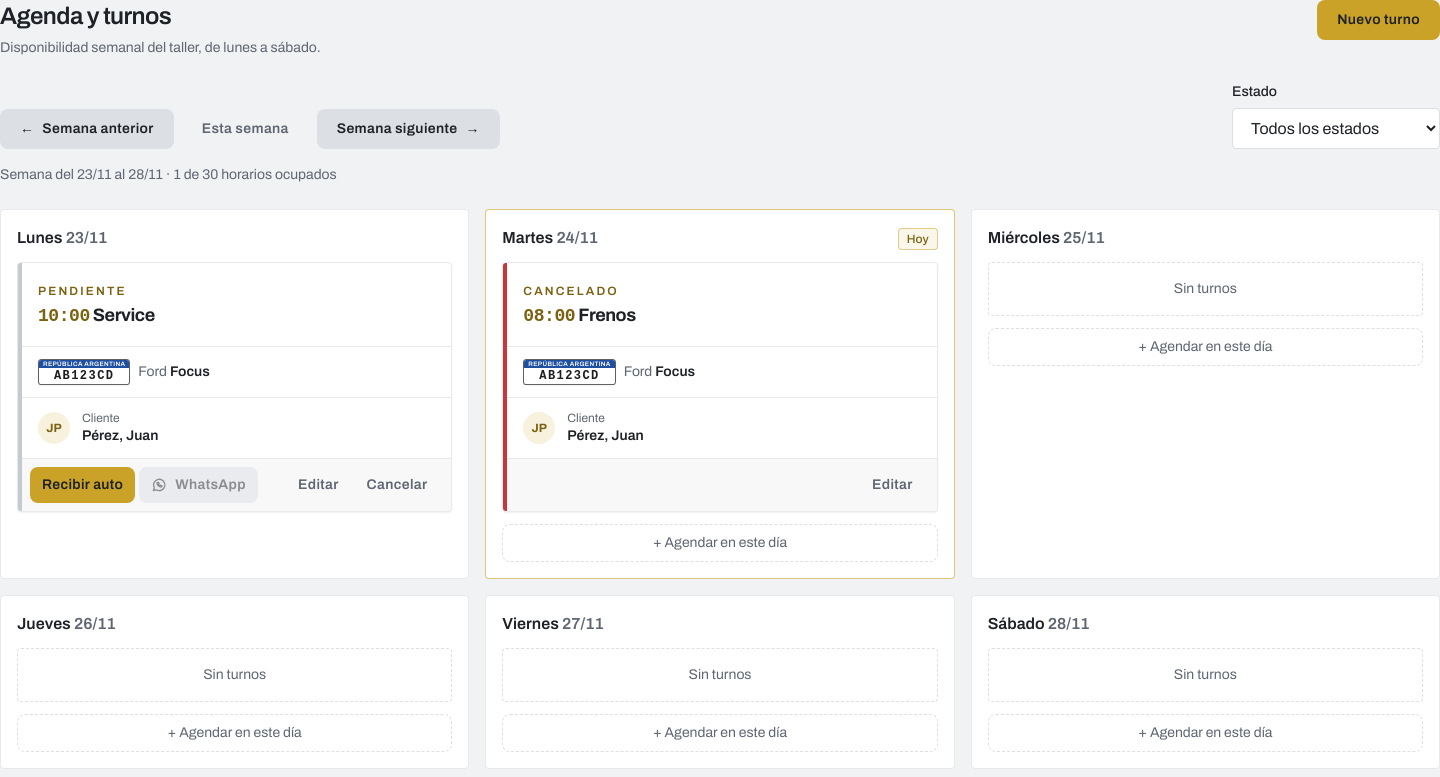
Scenario: Turnos › con turnos en la semana › cancelar pide confirmación, cambia el estado, avisa y recarga
The width and height of the screenshot is (1440, 777).
Expected: the text "Service" is shown, [93,305,155,325]
# Solo el turno pendiente tiene "Cancelar".
Click the button "Cancelar": (397, 485) [355,467,439,503]
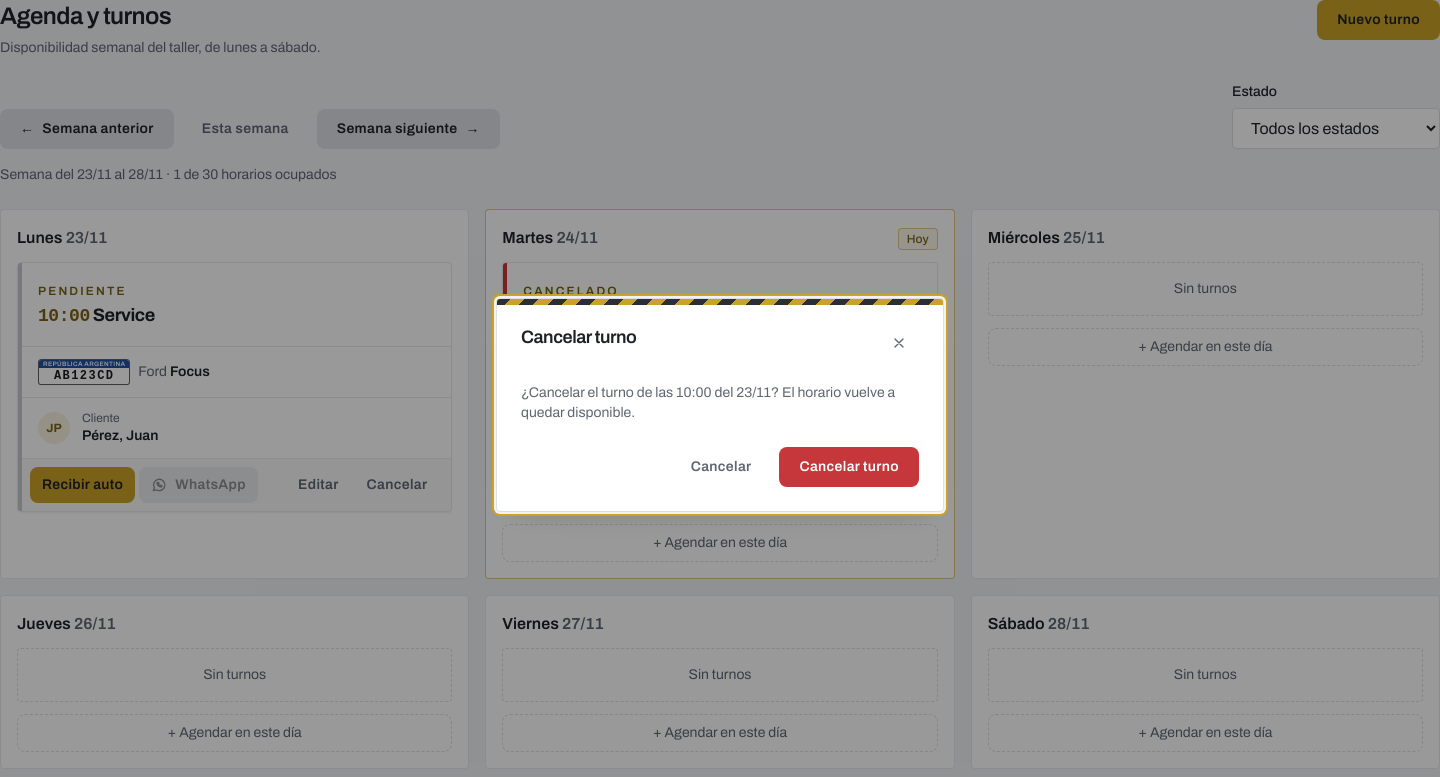
Expected: the text "Cancelar el turno de las 10:00" is shown, [521,385,895,420]
Click the button "Cancelar turno": (849, 467) [780,447,919,487]
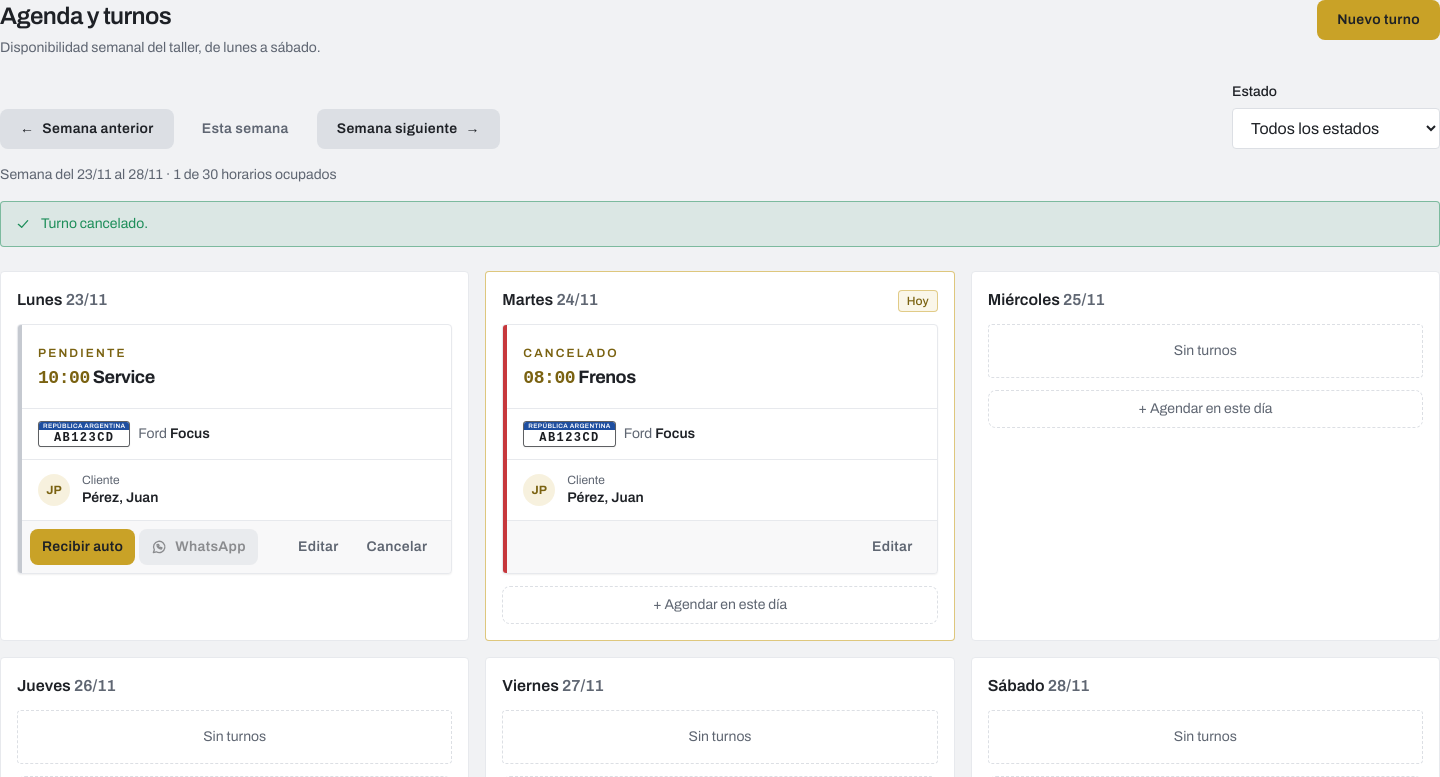
Expected: the text "Turno cancelado." is shown, [41,216,148,231]
